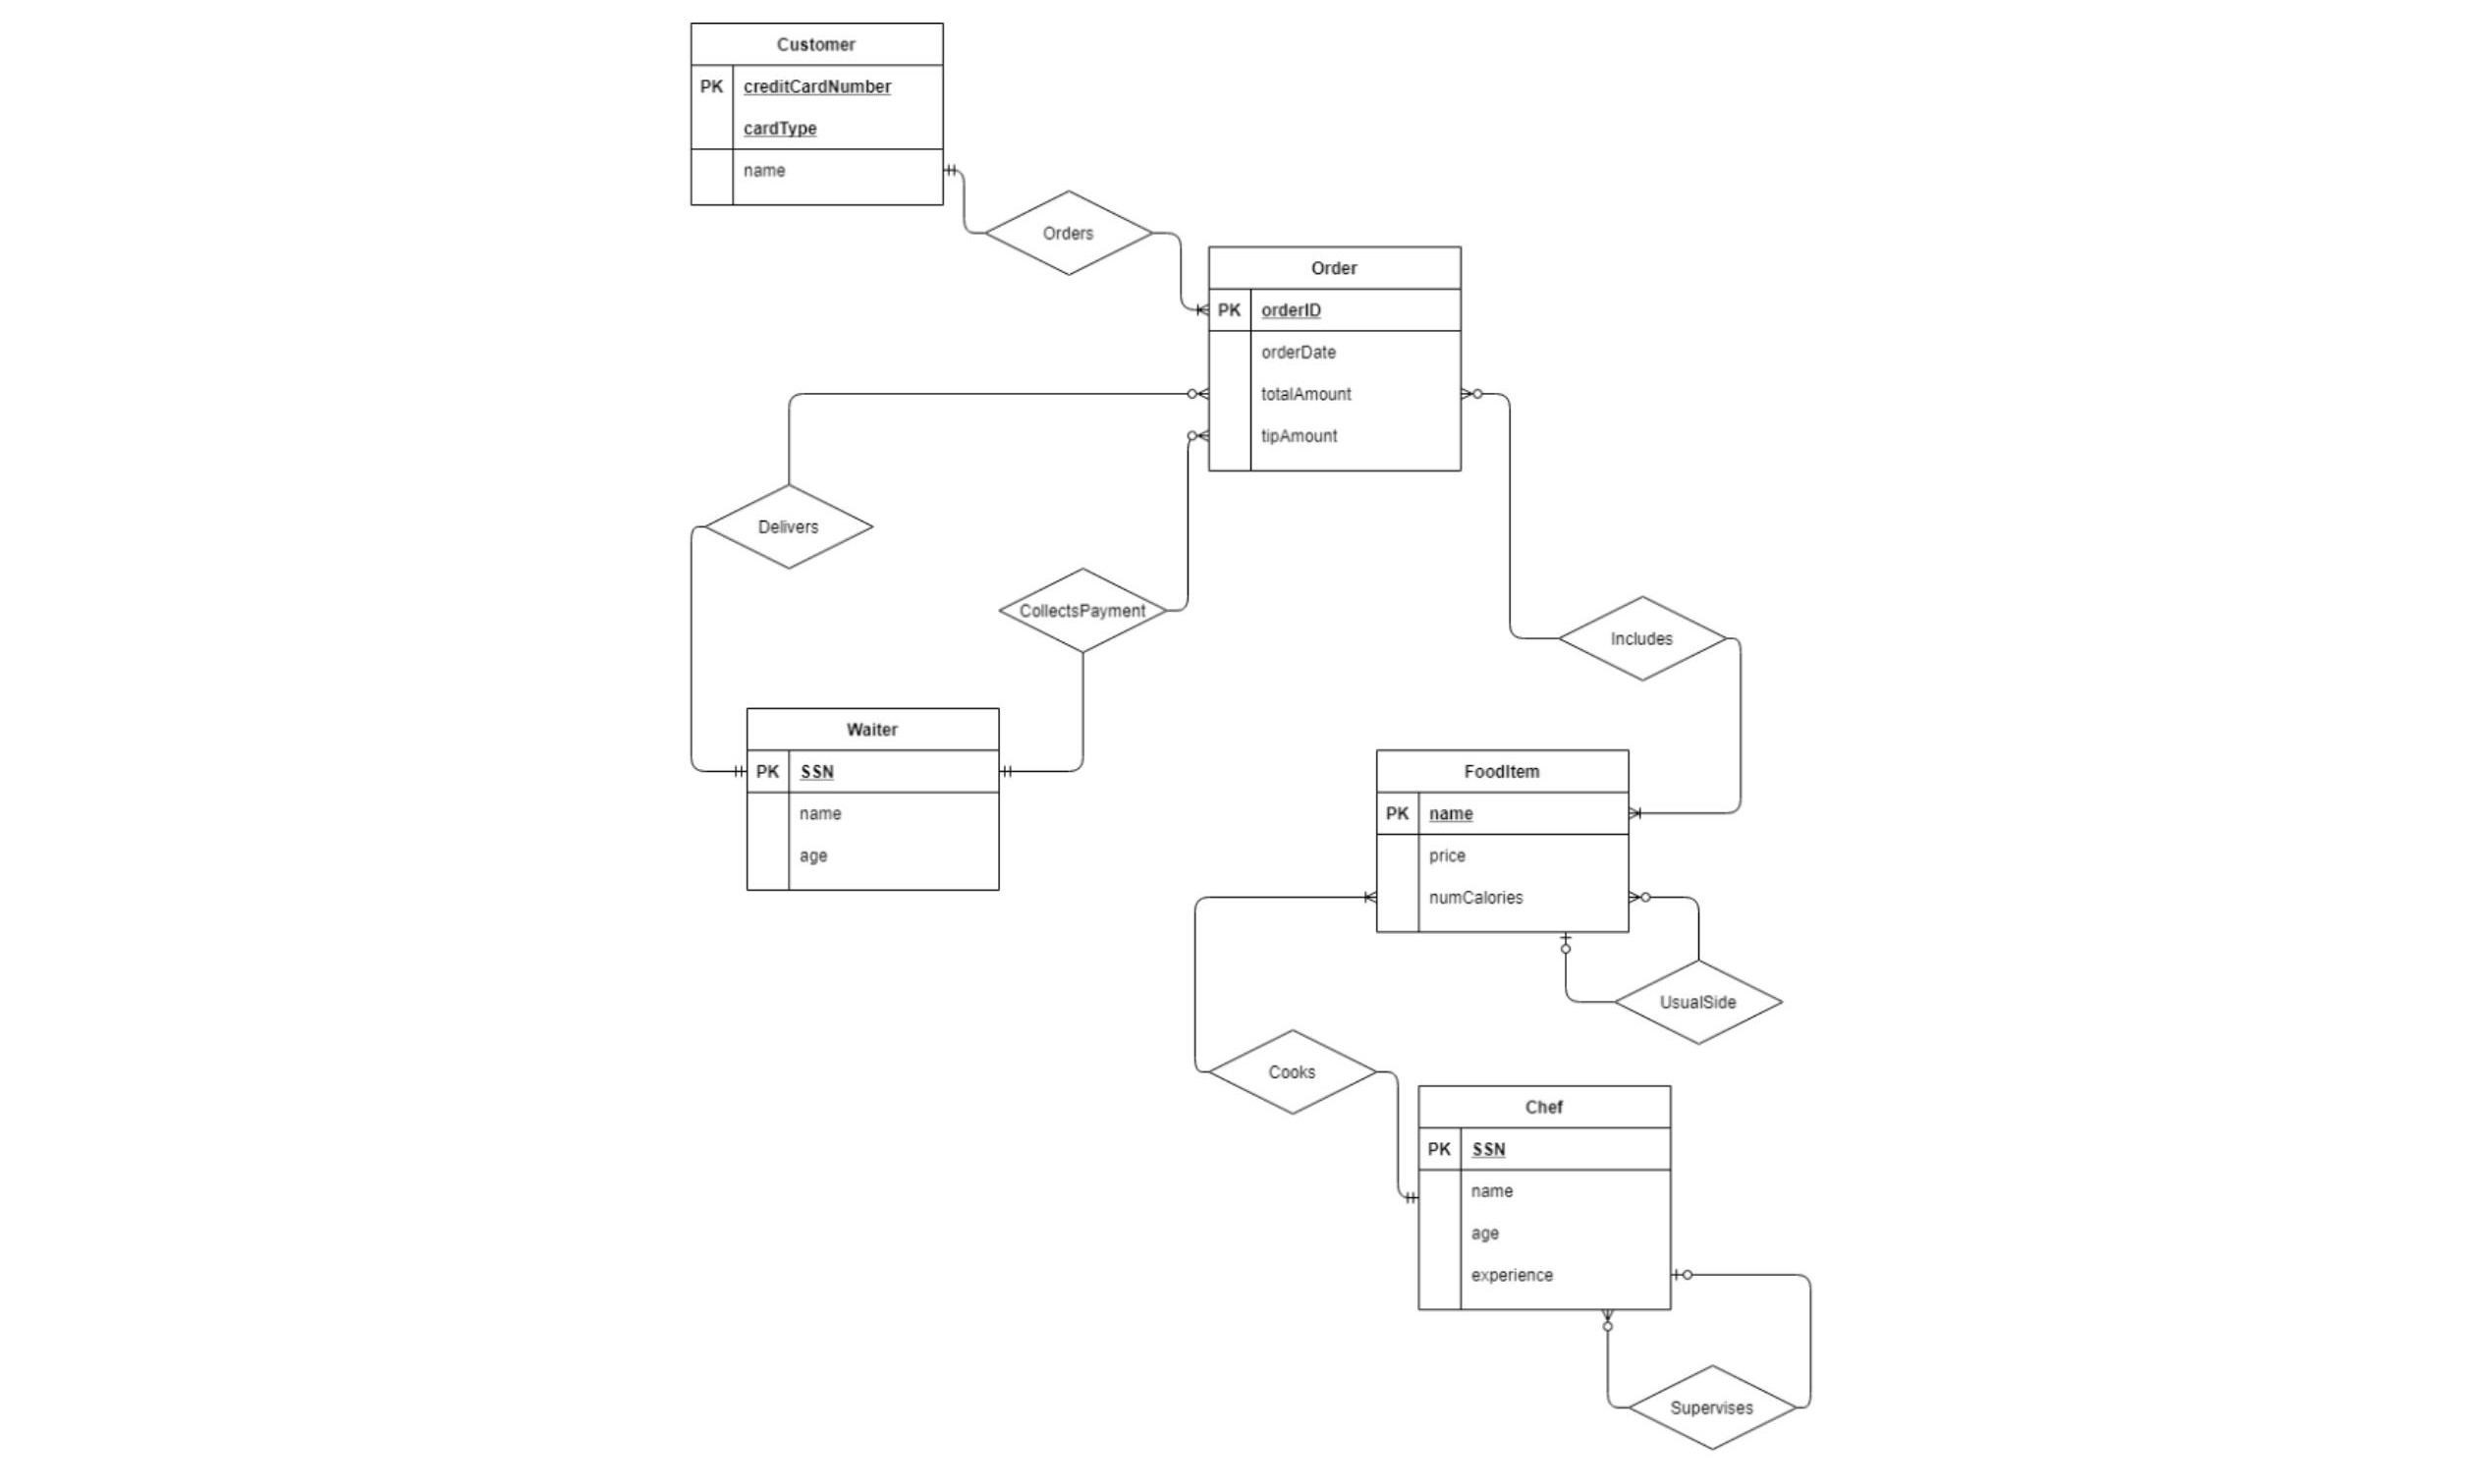Entity: (1206, 244, 1464, 475), (1415, 1083, 1674, 1313), (1374, 747, 1632, 935), (689, 21, 945, 207), (745, 707, 1001, 892)
Relationship: (984, 189, 1152, 277), (1612, 961, 1786, 1046), (1558, 595, 1726, 682), (1208, 1028, 1376, 1115), (1628, 1364, 1796, 1450), (705, 484, 874, 569), (998, 567, 1166, 652)
